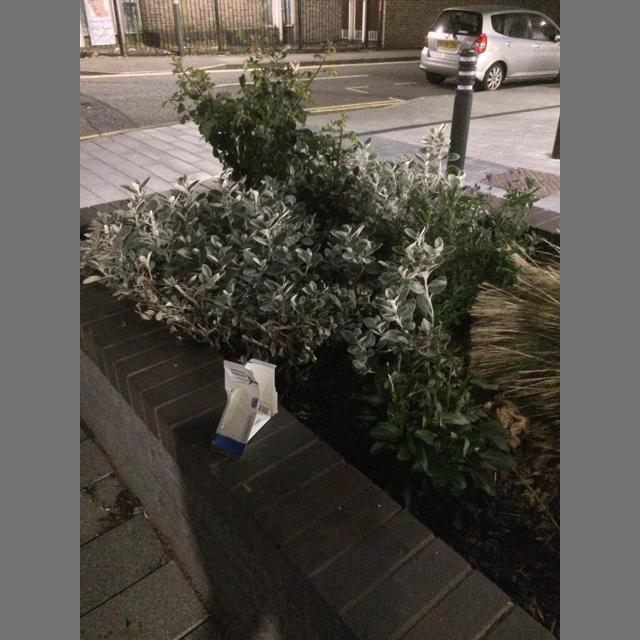litter: (210, 359, 278, 460), (221, 389, 250, 438)
